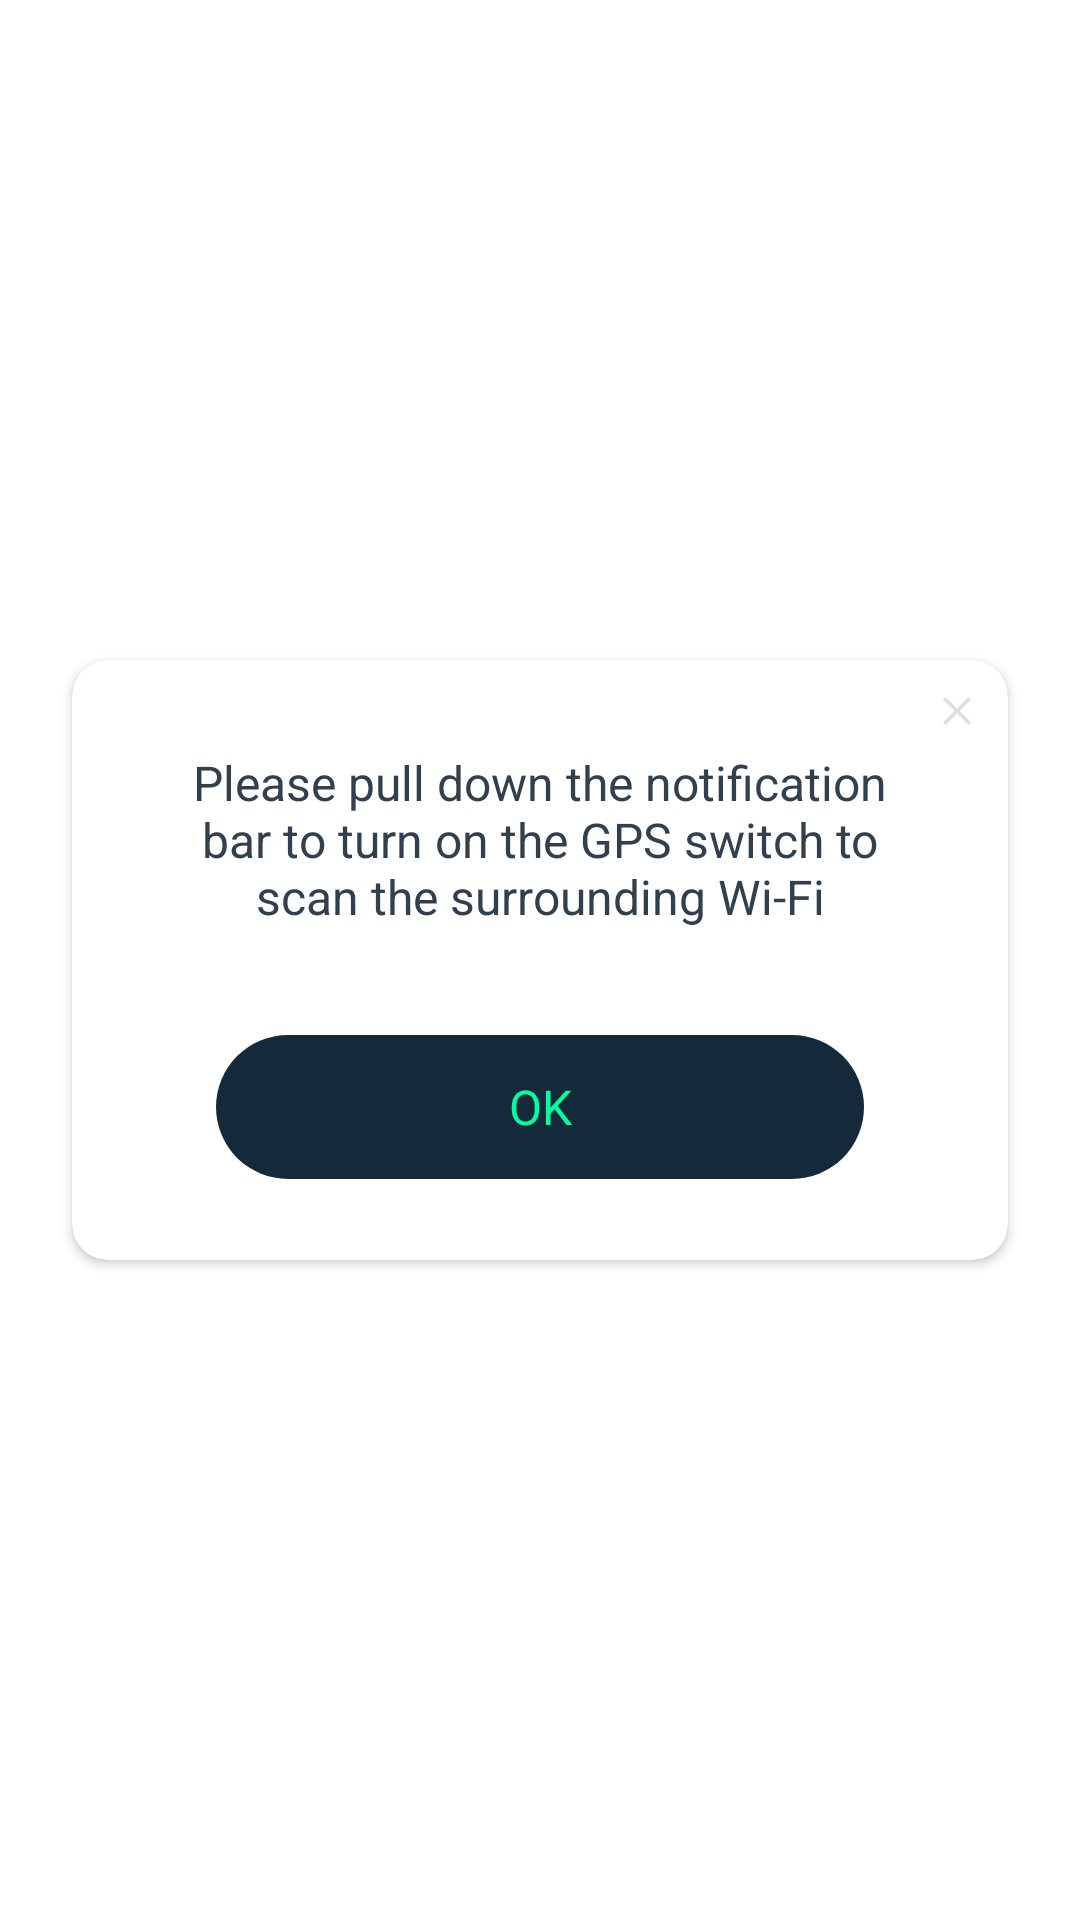

Named icons in this screenshot (1080w x 1920h) and their centers, [x,y]:
close: [957,711]
